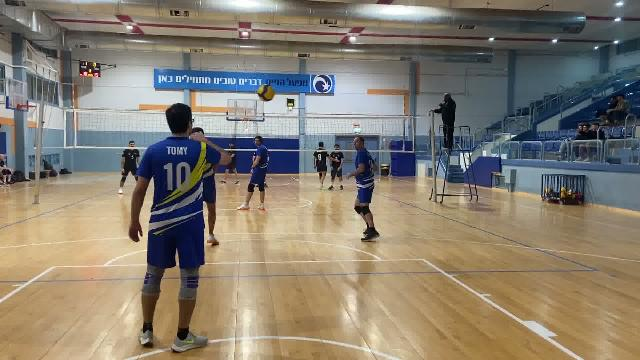ball: (255, 80, 278, 105)
